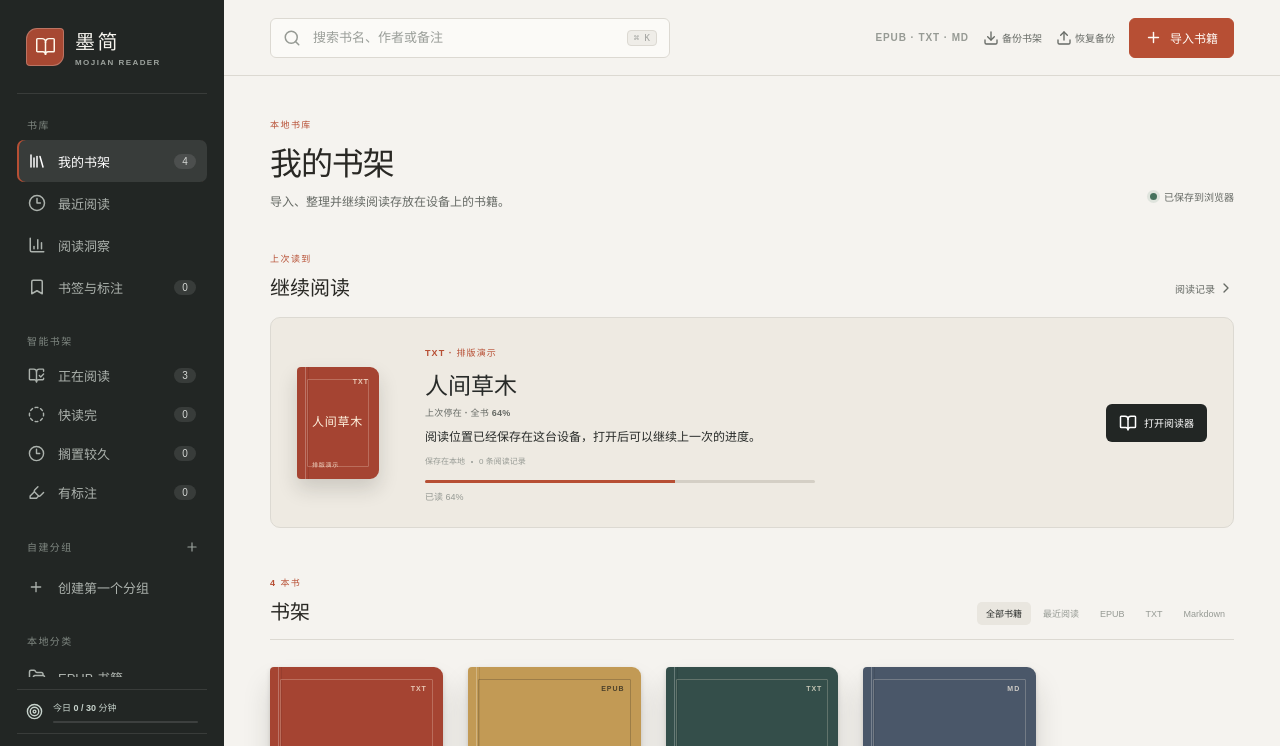
Test: Mojian Reader › opens a book and changes the reading appearance
The image size is (1280, 746).
Click the button with aria-label "继续阅读人间草木" at [752, 423], box left=270, top=317, right=1234, bottom=528
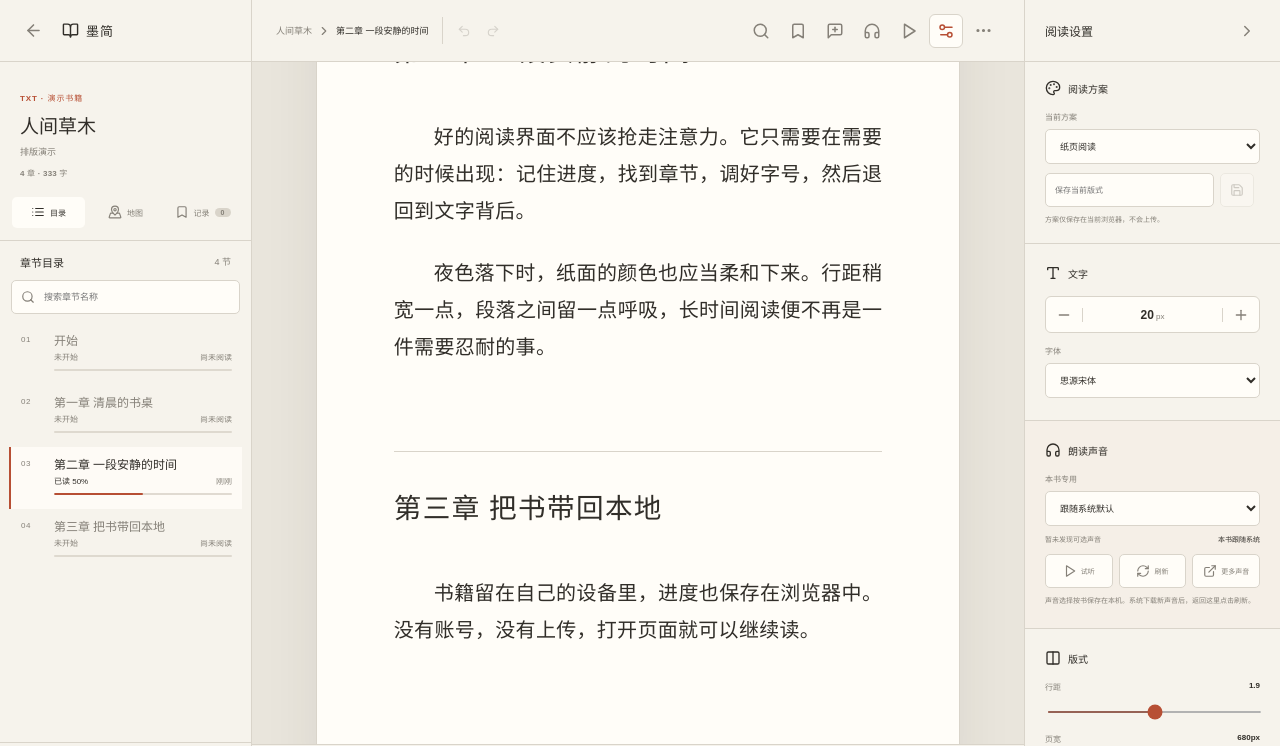
Expected: the heading "人间草木" is shown, left=20, top=116, right=96, bottom=137
Expected: the text "阅读设置" is shown, left=1045, top=22, right=1093, bottom=39
Click the button named "增大字号" at [1241, 315], box left=1223, top=297, right=1259, bottom=332
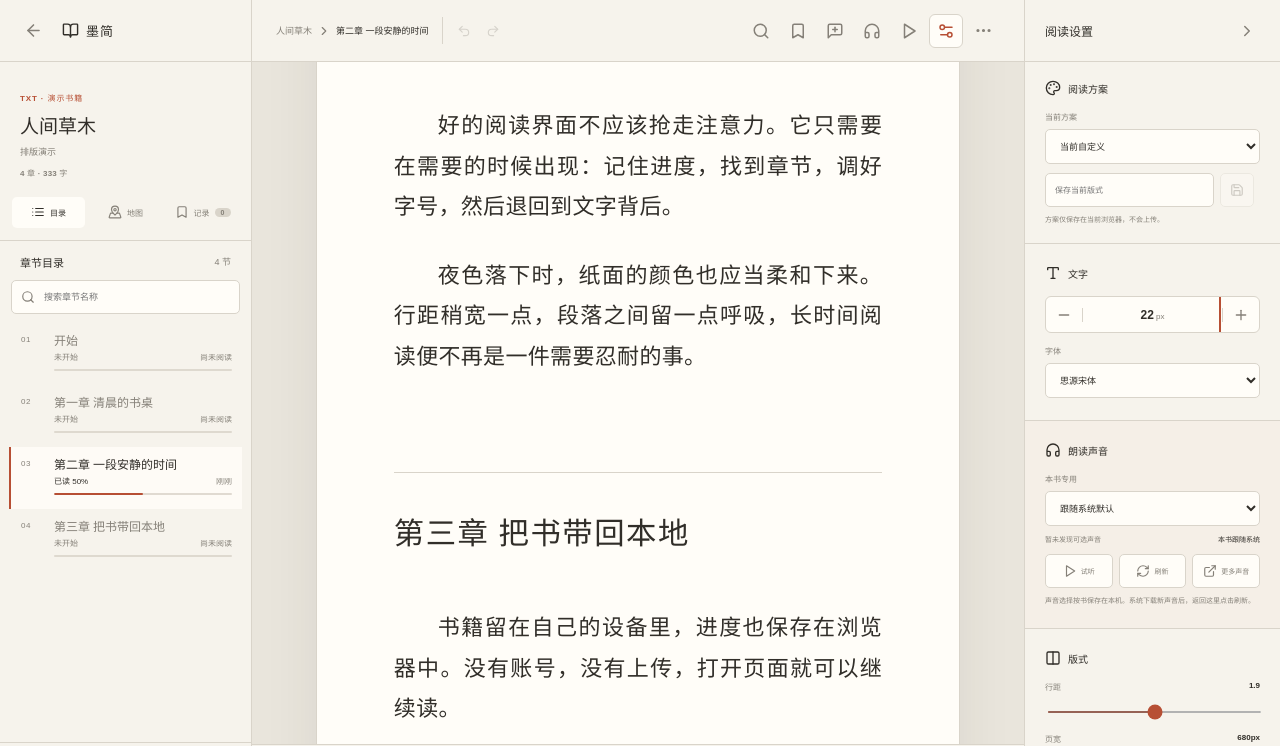
Click the button named "返回书架" at [33, 30], box left=16, top=14, right=50, bottom=48
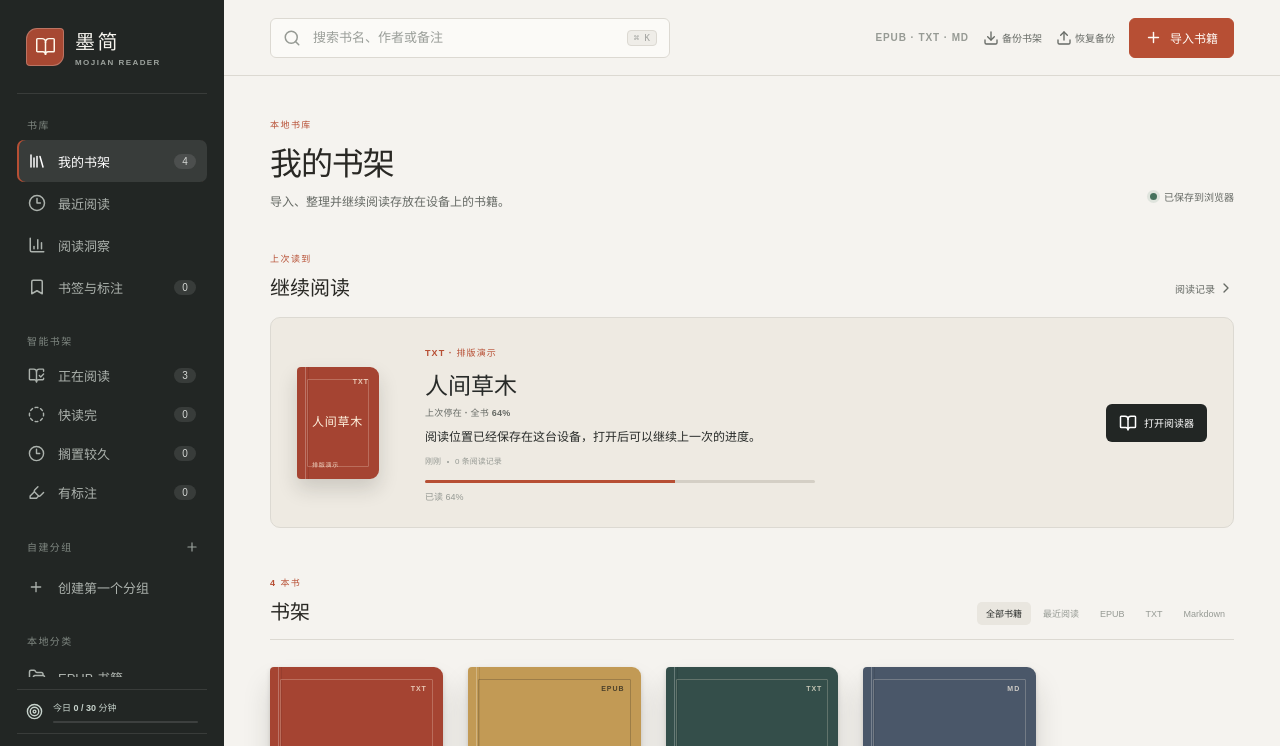
Expected: the heading "我的书架" is shown, left=270, top=146, right=394, bottom=182
